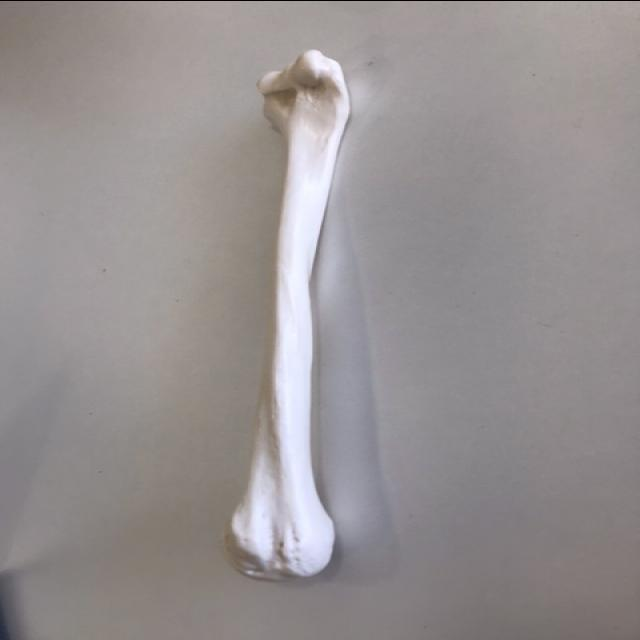bone: (220, 48, 355, 580)
